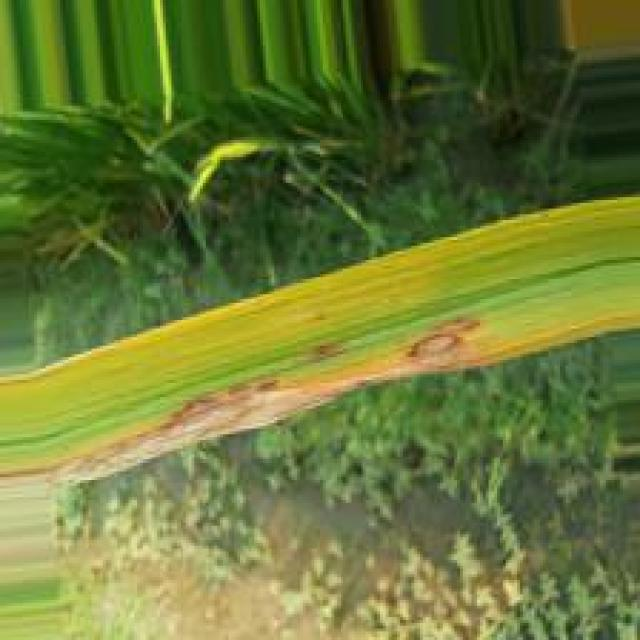Leaf_Blast: (0, 312, 522, 501)
